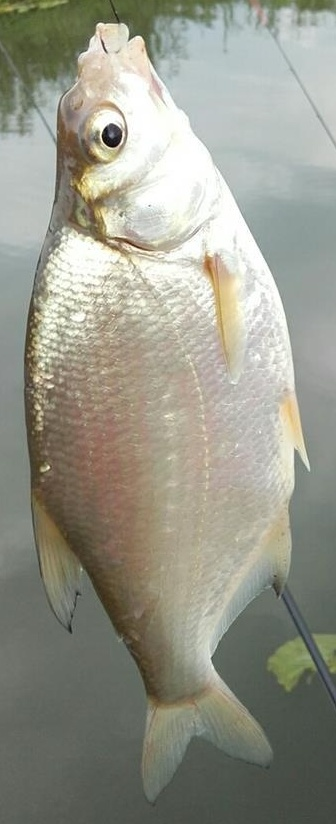Blicca bjoerkna: (20, 20, 316, 804)
